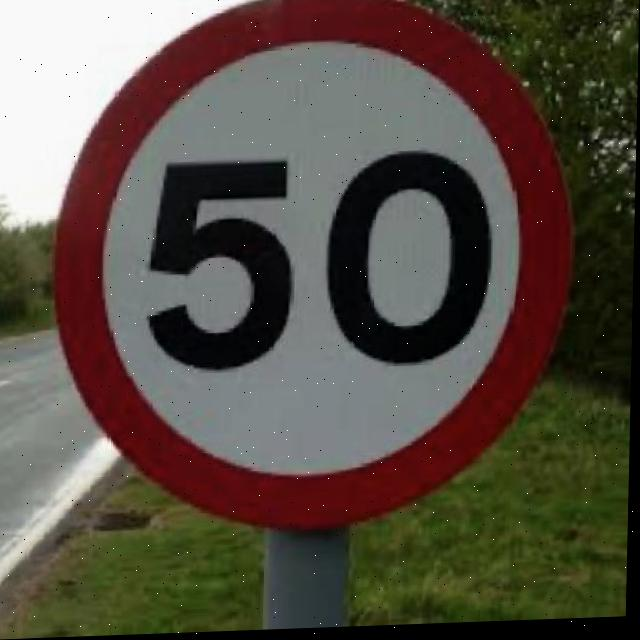Speed limit 50: (45, 1, 584, 545)
